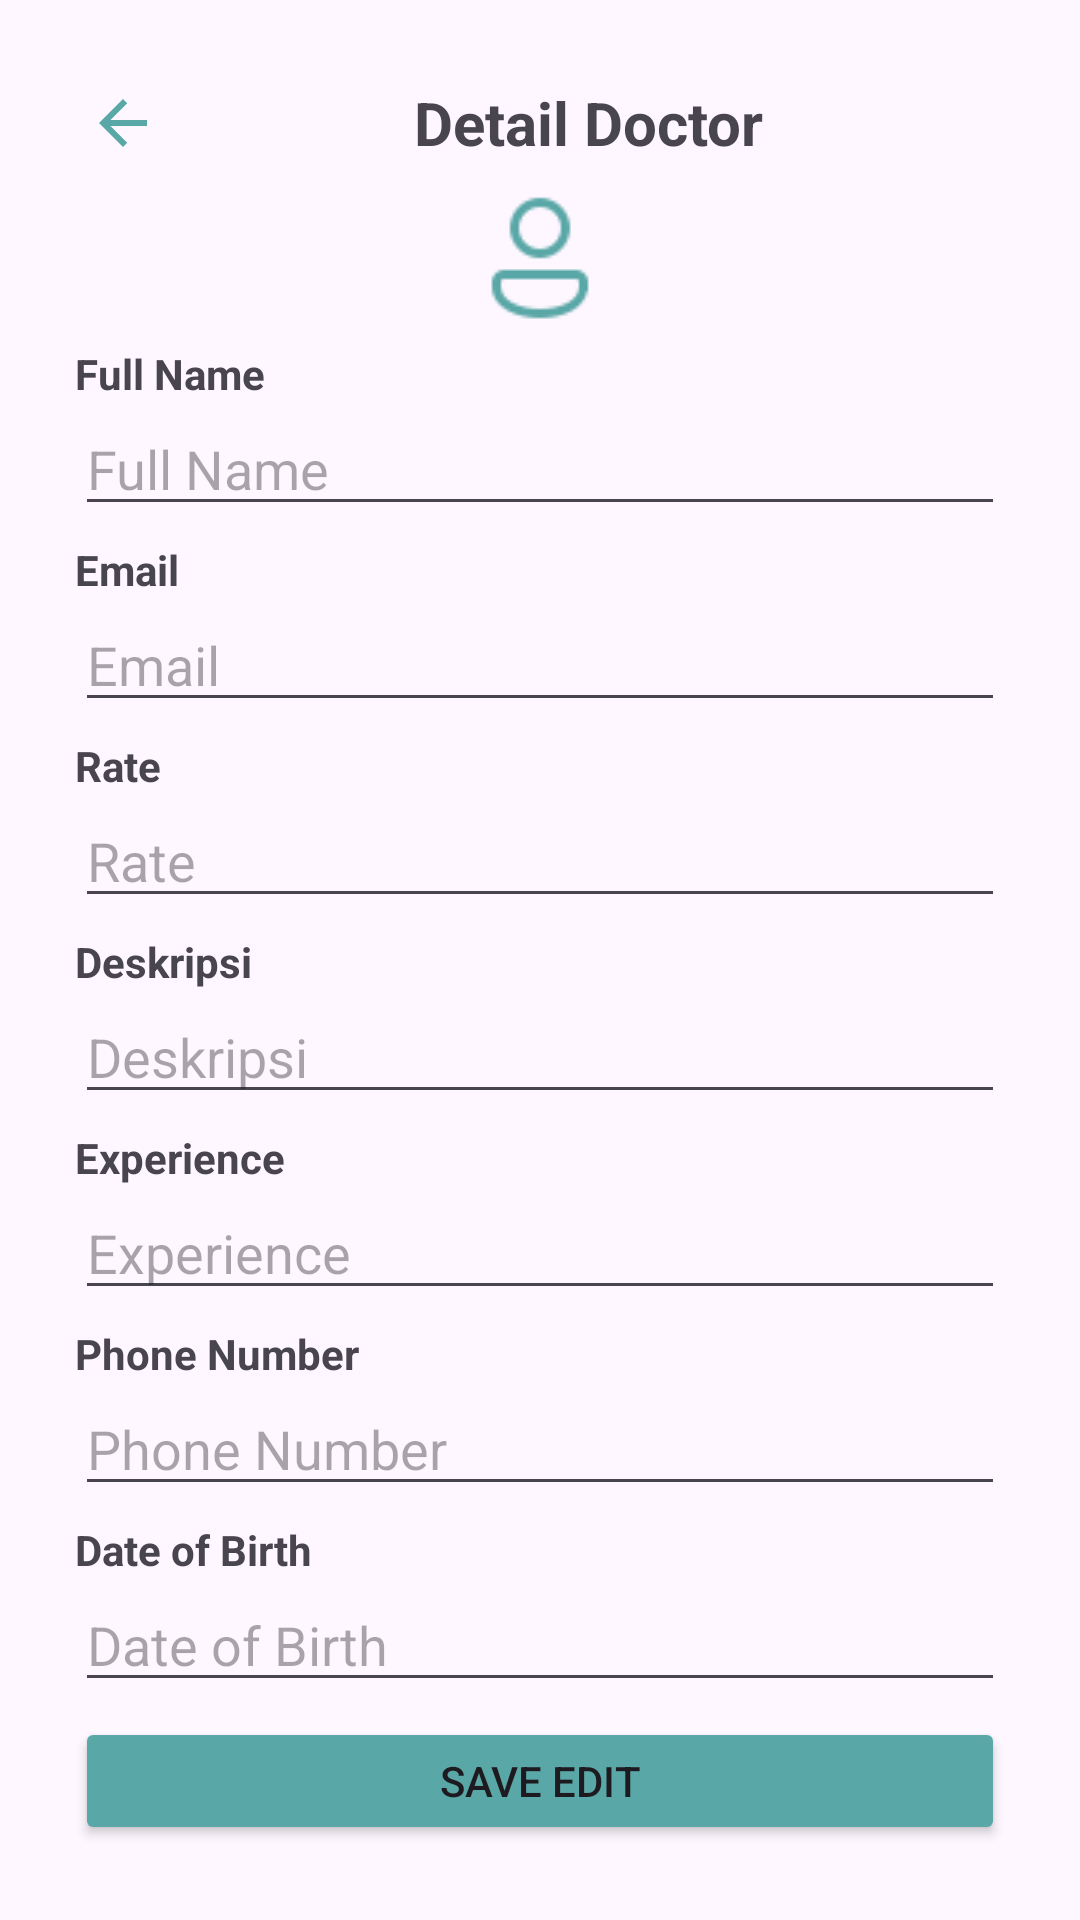

Icons on this 1080×1920 Android screen, each with its box as (x1, y1, x2, y2):
back: (99, 99, 147, 147)
profile: (491, 197, 589, 319)
